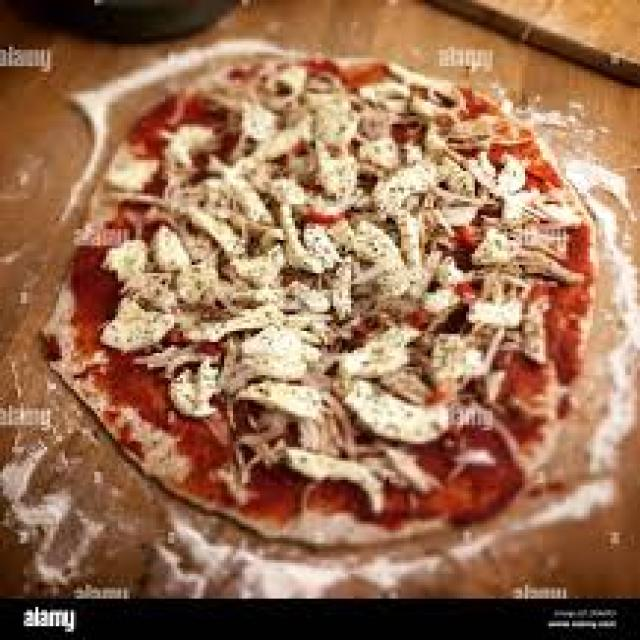피자: (38, 47, 640, 599)
